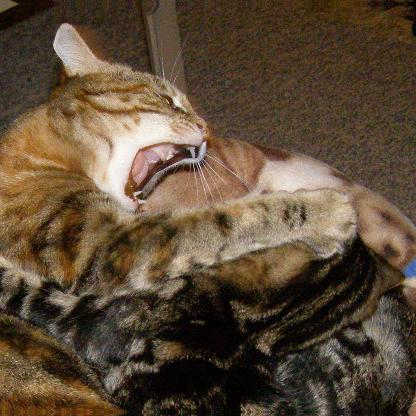Cat: (4, 22, 414, 411)
